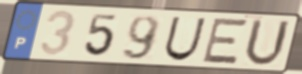3: (38, 9, 80, 59)
5: (80, 13, 121, 58)
9: (119, 14, 164, 61)
E: (200, 17, 251, 66)
U: (241, 17, 293, 69), (162, 15, 209, 63)
